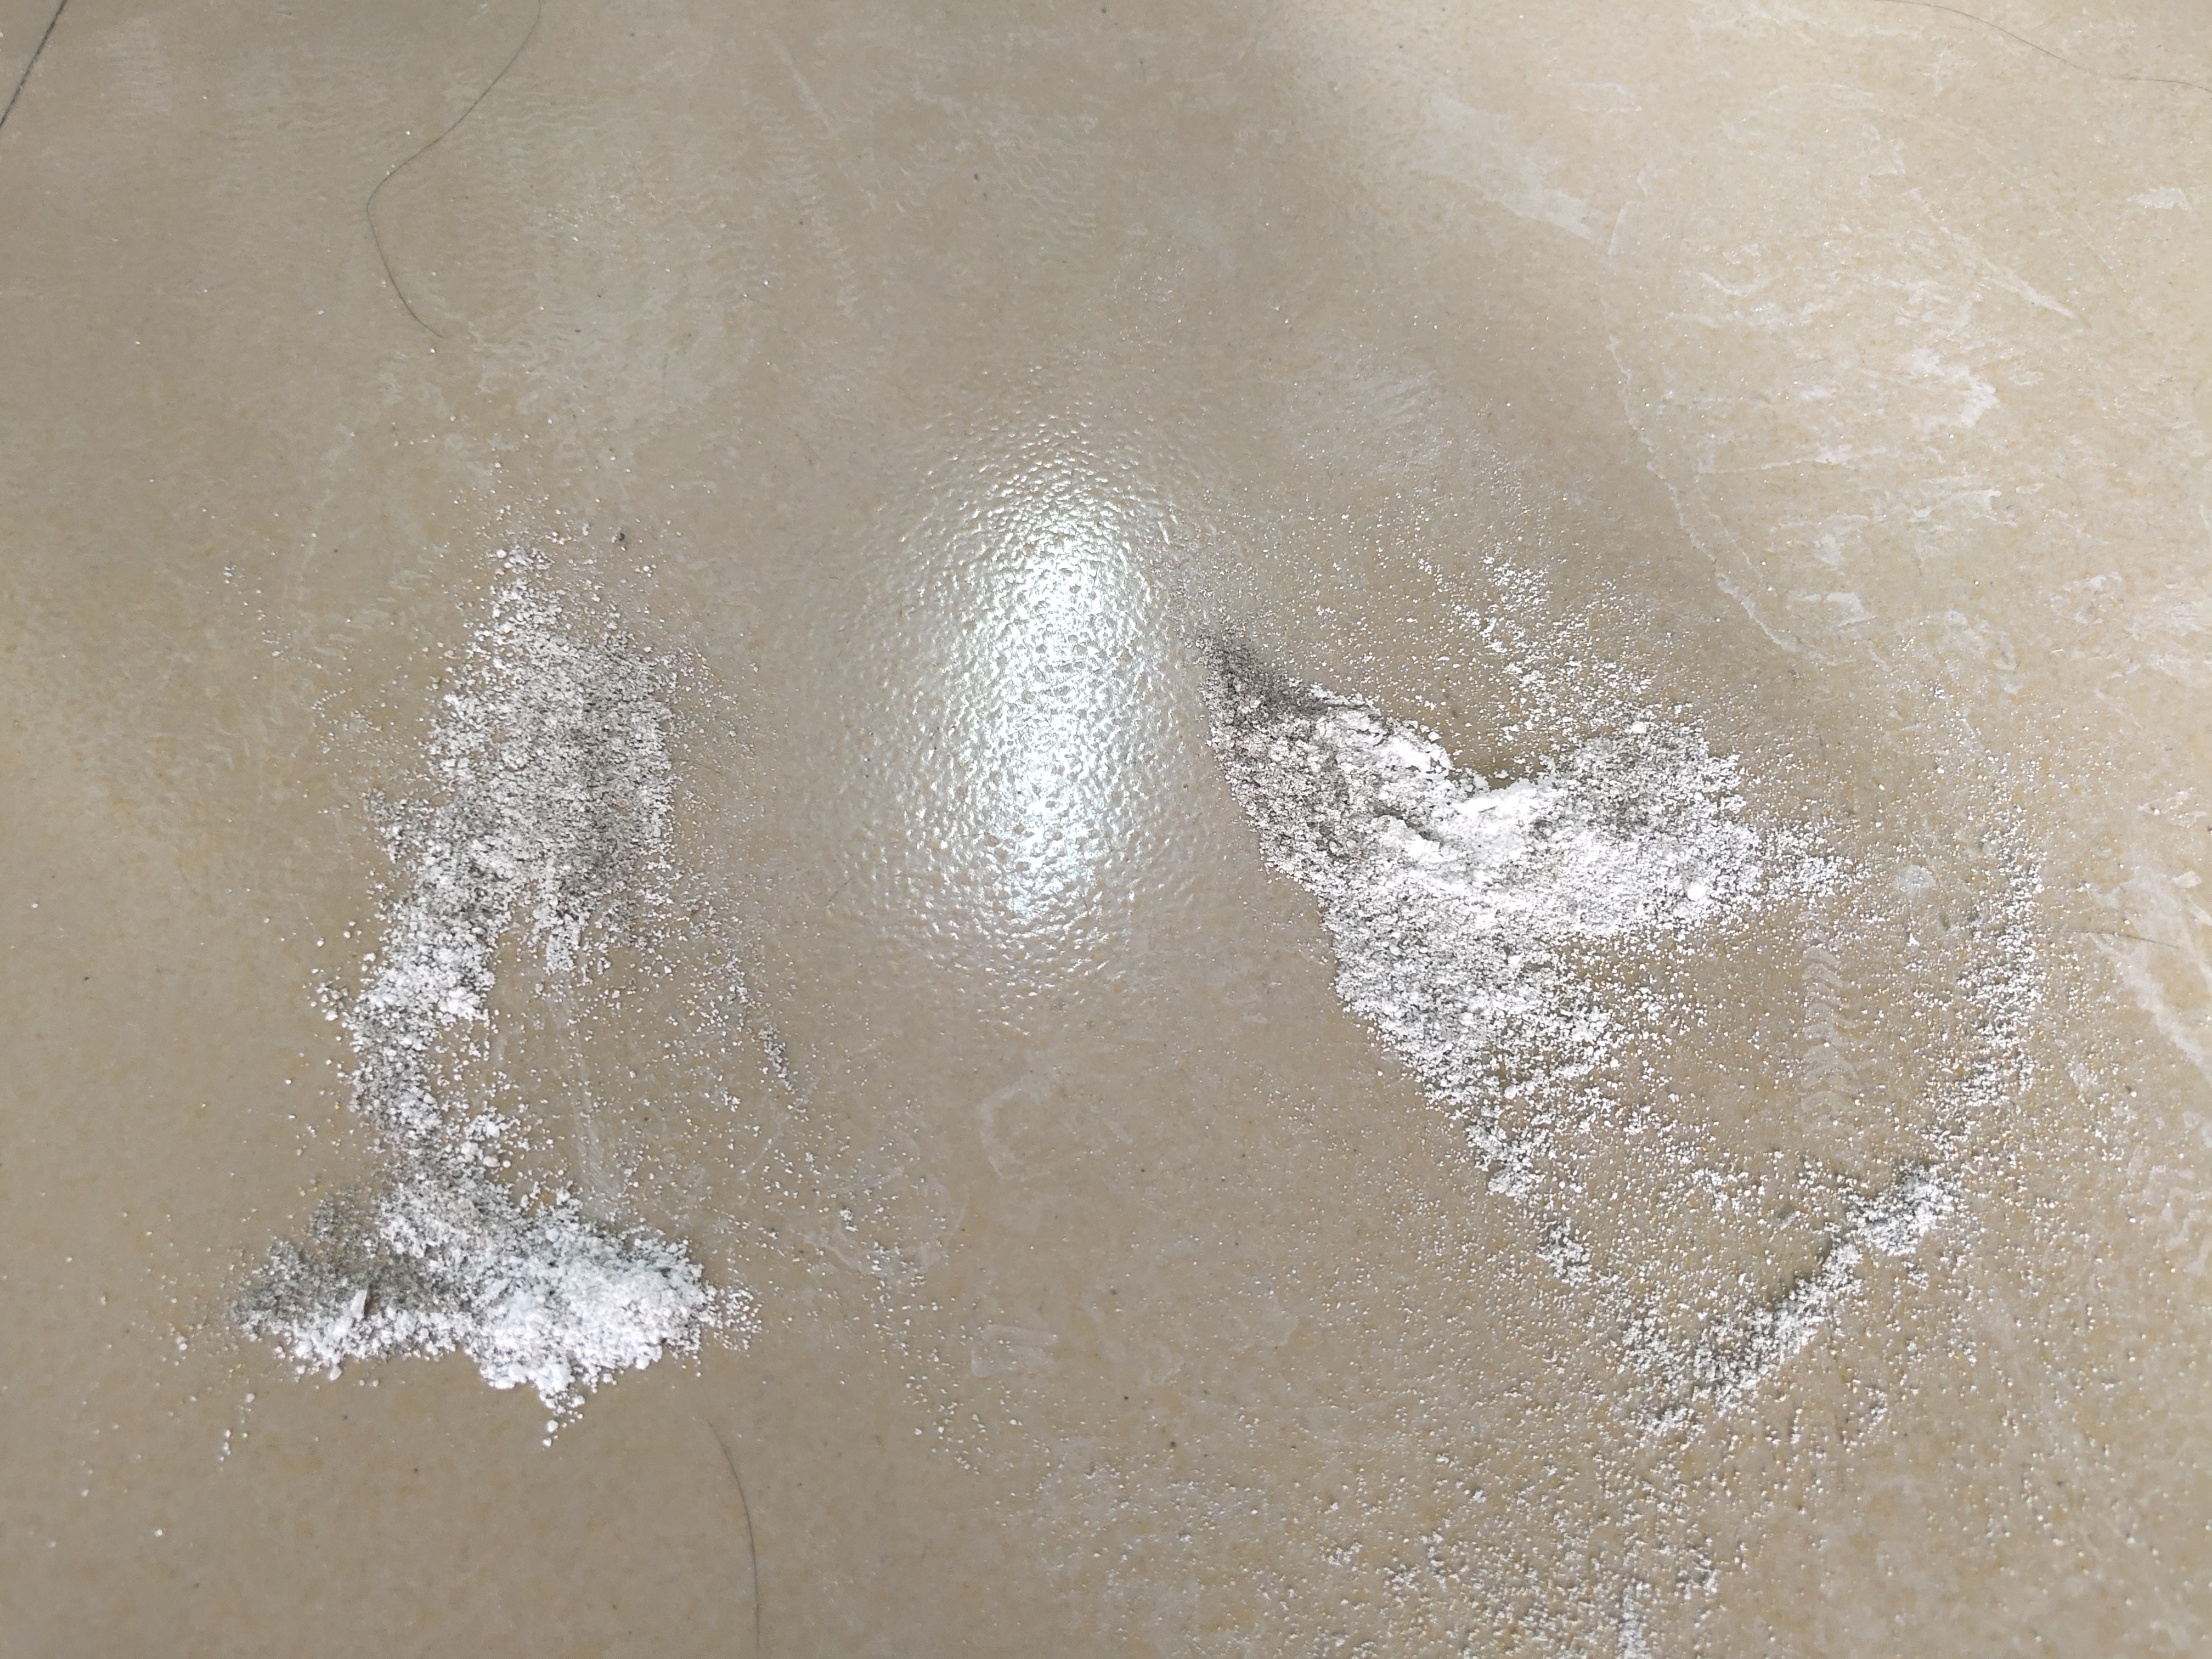ash pile: (1202, 552, 2048, 1450), (228, 535, 763, 1455)
reflection: (909, 441, 1162, 1012)
